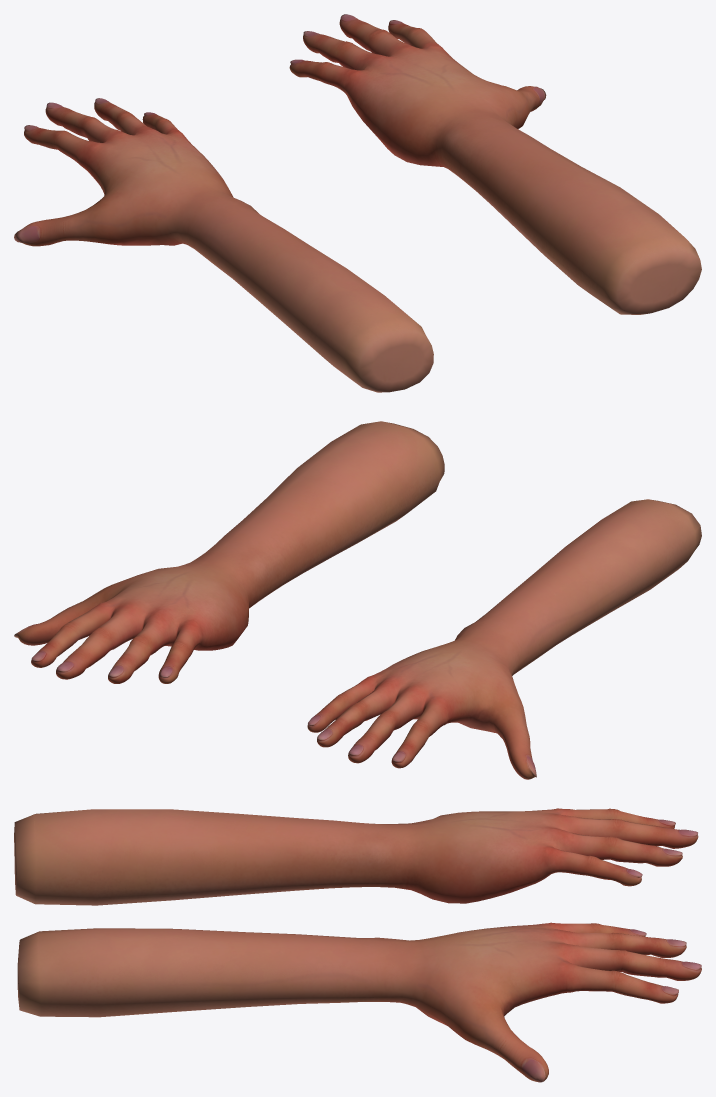
File: dasdas.glb
3 views of the same model, one above another, from view 1: azimuth 30°, elevation 25°; view 2: azimuth 150°, elevation 25°; view 3: azimuth 270°, elevation 25° (orthographic). The views are drawn at different scales.
Visible parts, largest first — view 1: Female_Arm, Female_Arm_FemaleArm_0.001; view 2: Female_Arm, Female_Arm_FemaleArm_0.001; view 3: Female_Arm, Female_Arm_FemaleArm_0.001.
Boxes of the visible parts, box(x1,y1,x2,y2) form: Female_Arm: box(289, 14, 701, 314); Female_Arm_FemaleArm_0.001: box(14, 98, 433, 392); Female_Arm: box(14, 421, 444, 683); Female_Arm_FemaleArm_0.001: box(307, 499, 701, 779); Female_Arm: box(17, 922, 701, 1082); Female_Arm_FemaleArm_0.001: box(14, 808, 698, 905).
Size of the model in its own units: 41.83 by 7.3 by 45.86.
Materials: 2 (2 with a texture image).
